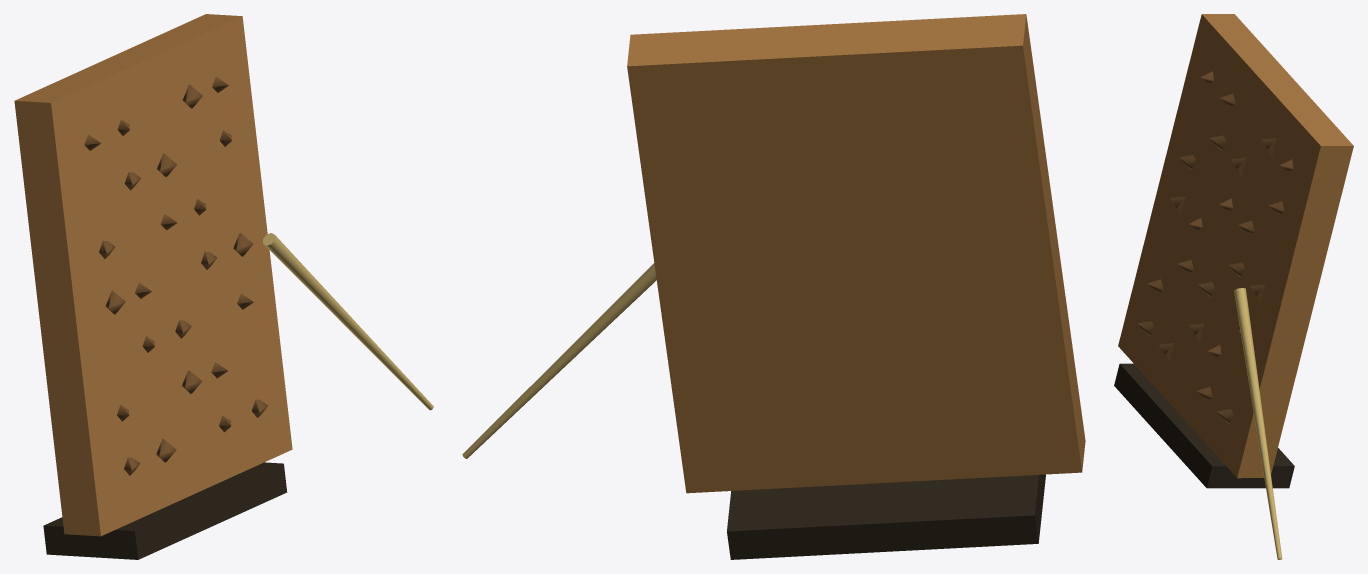
The model's file is clay_tablet.glb.
The picture shows the model from 3 angles, left to right: view 1: azimuth 30°, elevation 25°; view 2: azimuth 150°, elevation 25°; view 3: azimuth 270°, elevation 25°; orthographic projection. The views are drawn at different scales.
Bounding box in the file's own units: 1.37 × 1.39 × 0.766.
